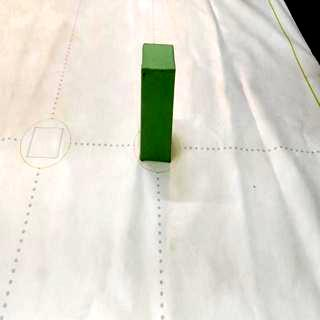greenbox: (140, 39, 176, 164)
